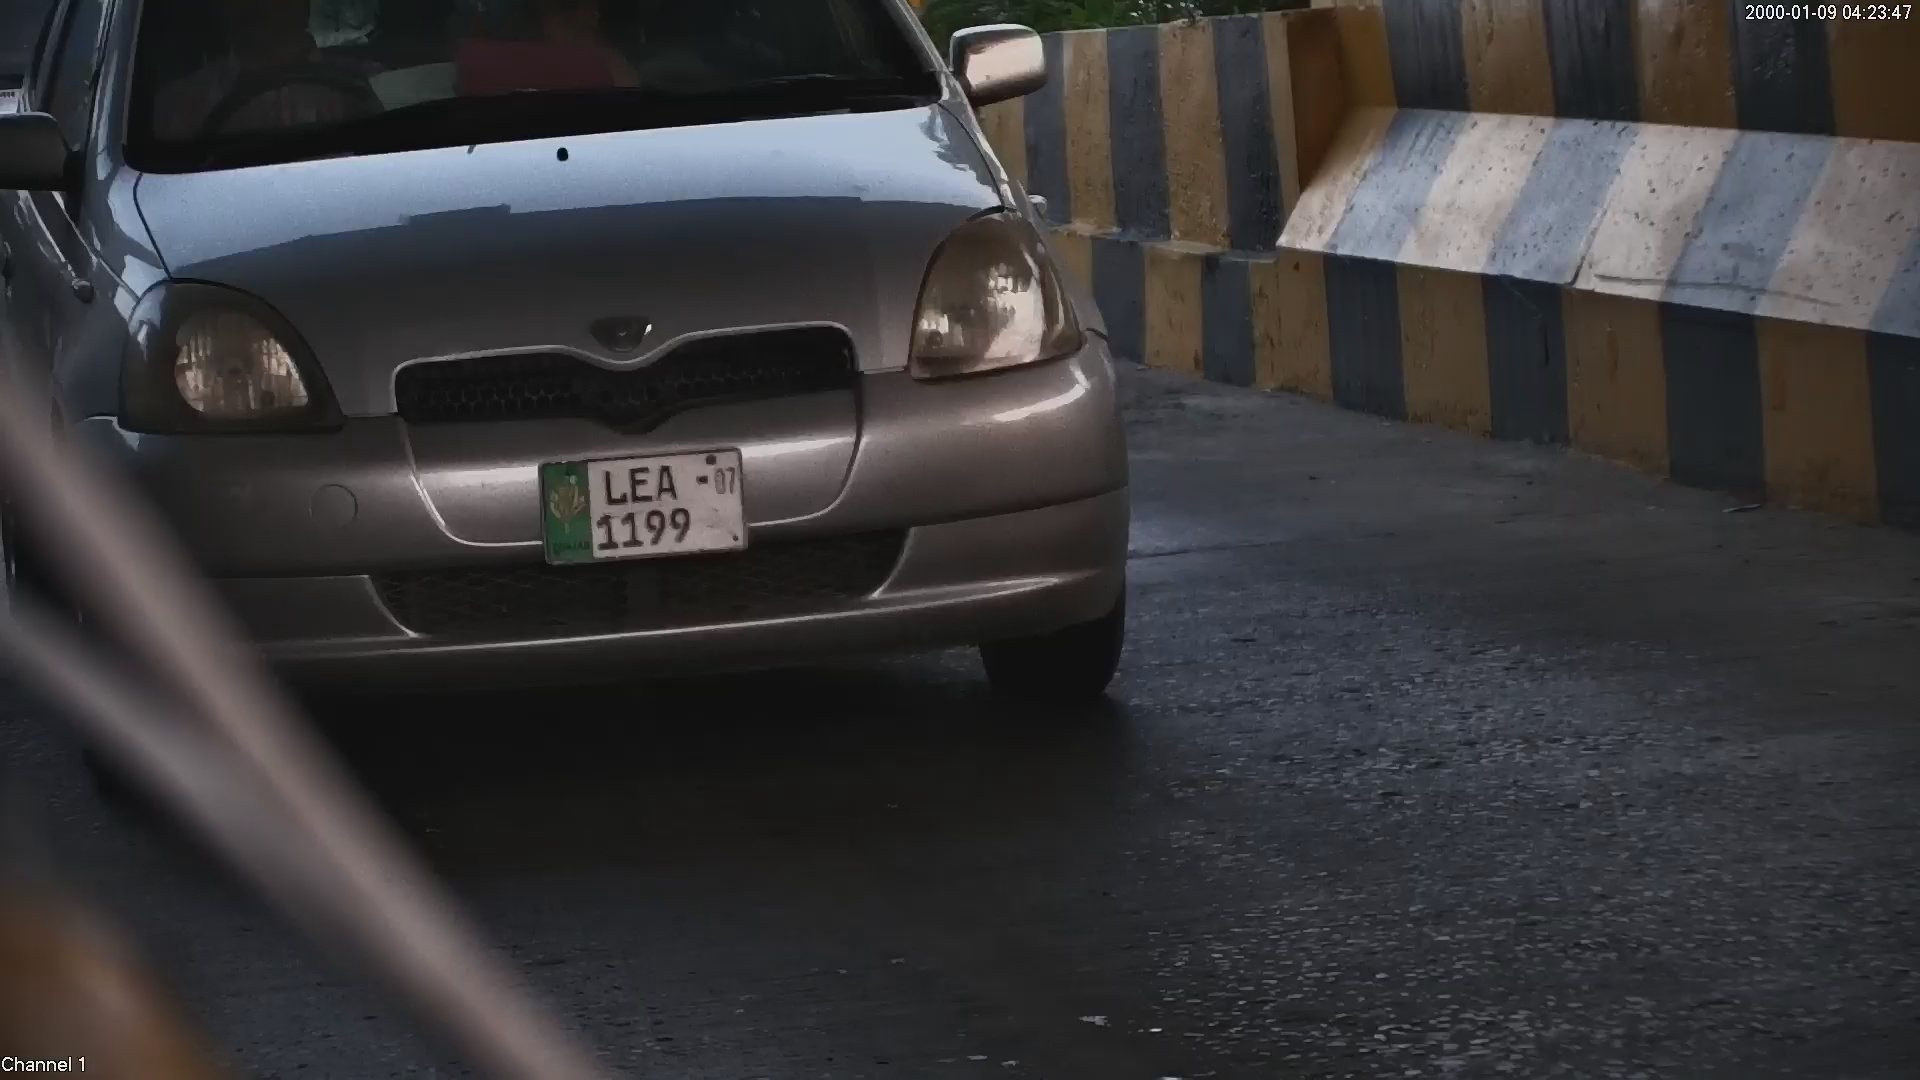Number_Plate: (519, 440, 756, 564)
